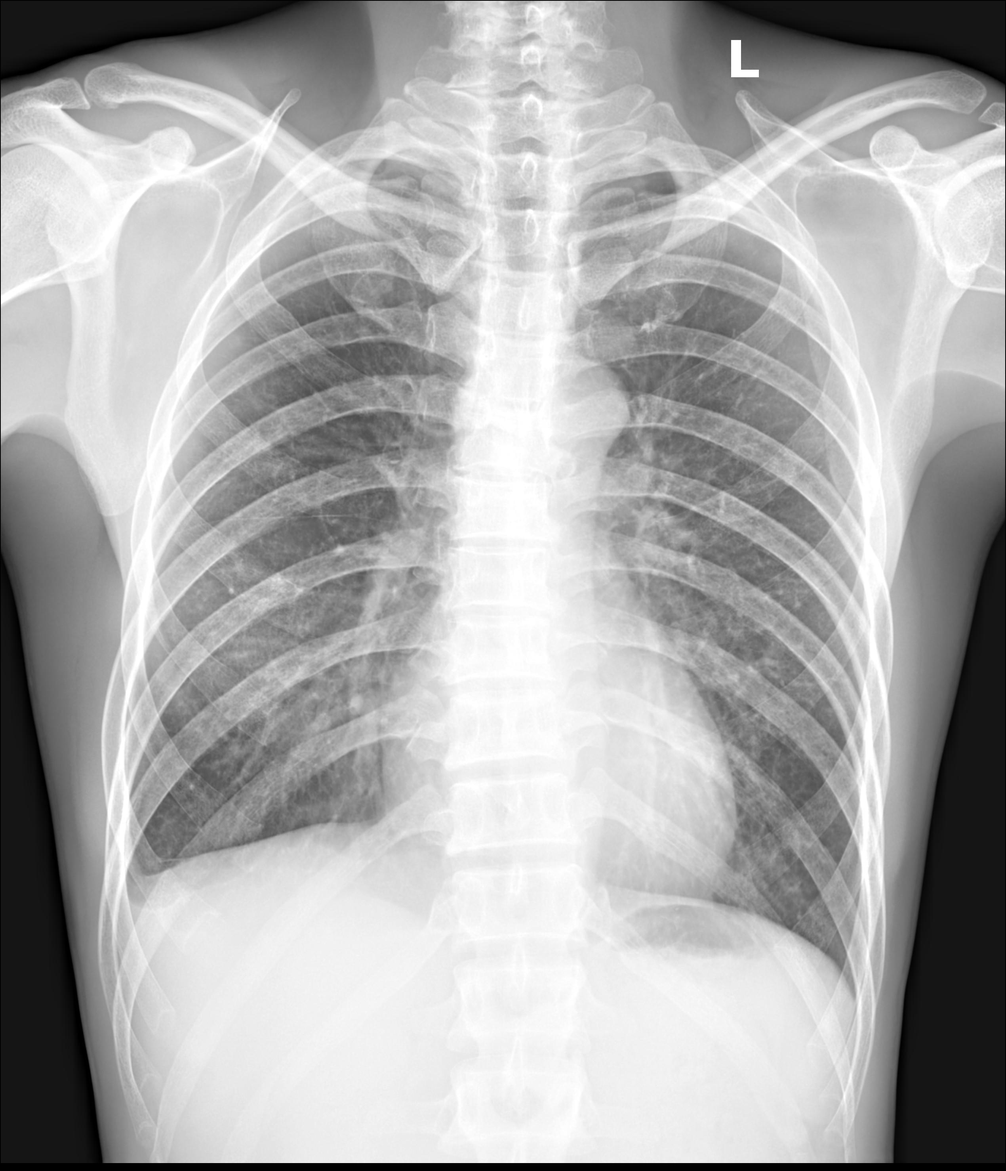Pleural thickening: (104, 832, 175, 908)
